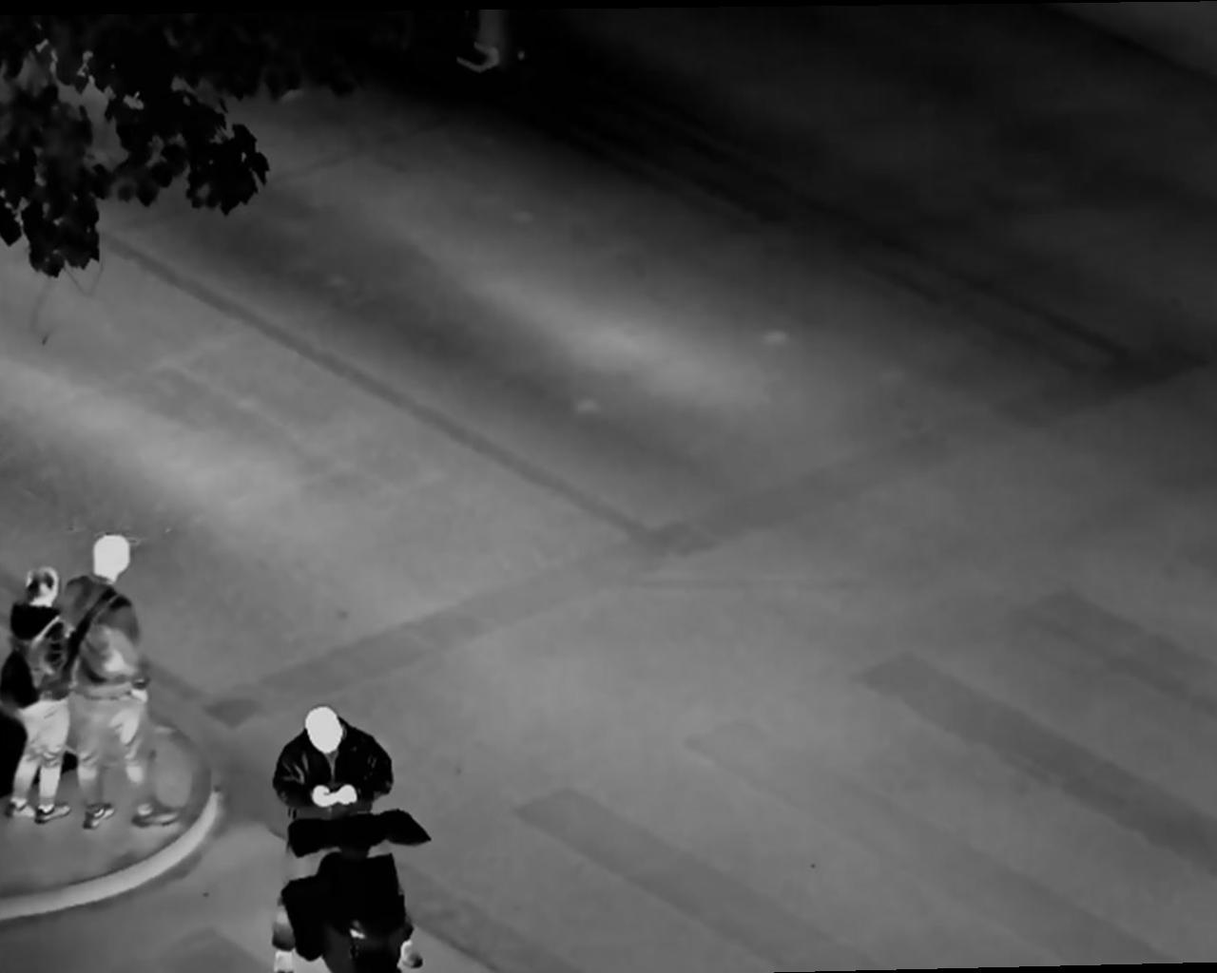person: (65, 530, 198, 849), (267, 707, 400, 927), (12, 565, 77, 868)
